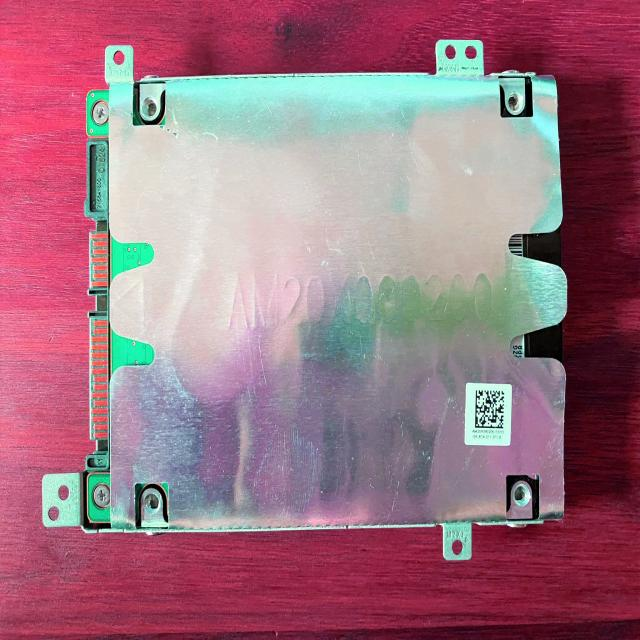PhillipsScrewHead: (94, 483, 110, 510), (92, 101, 109, 126)
